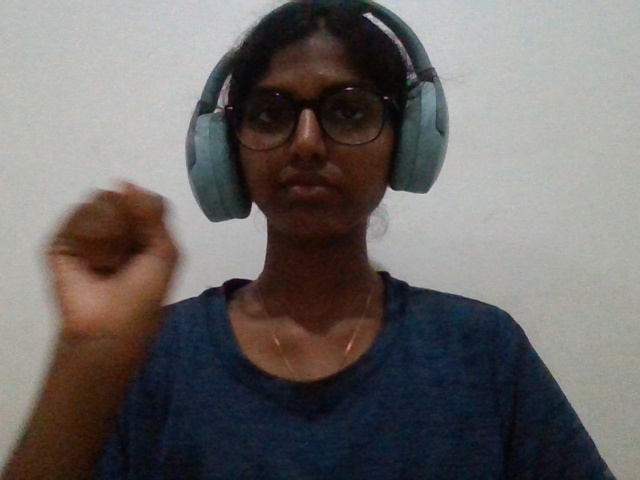Yes: (25, 173, 203, 373)
